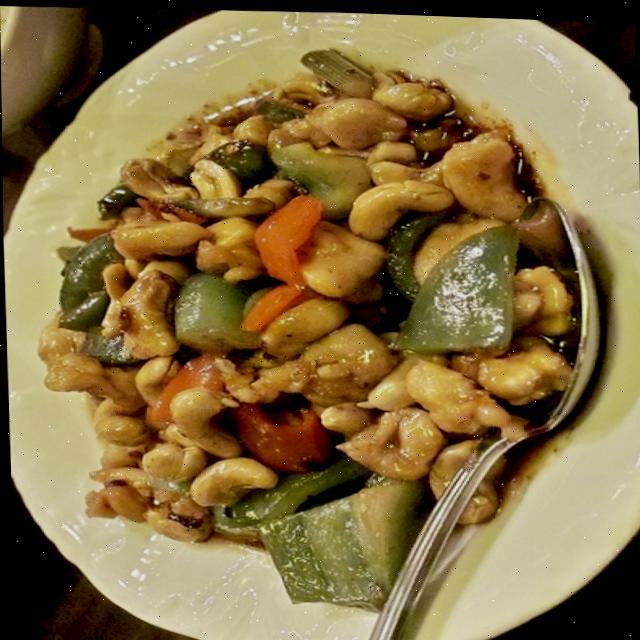鸡肉料理 含炸鸡: (1, 0, 640, 634)
